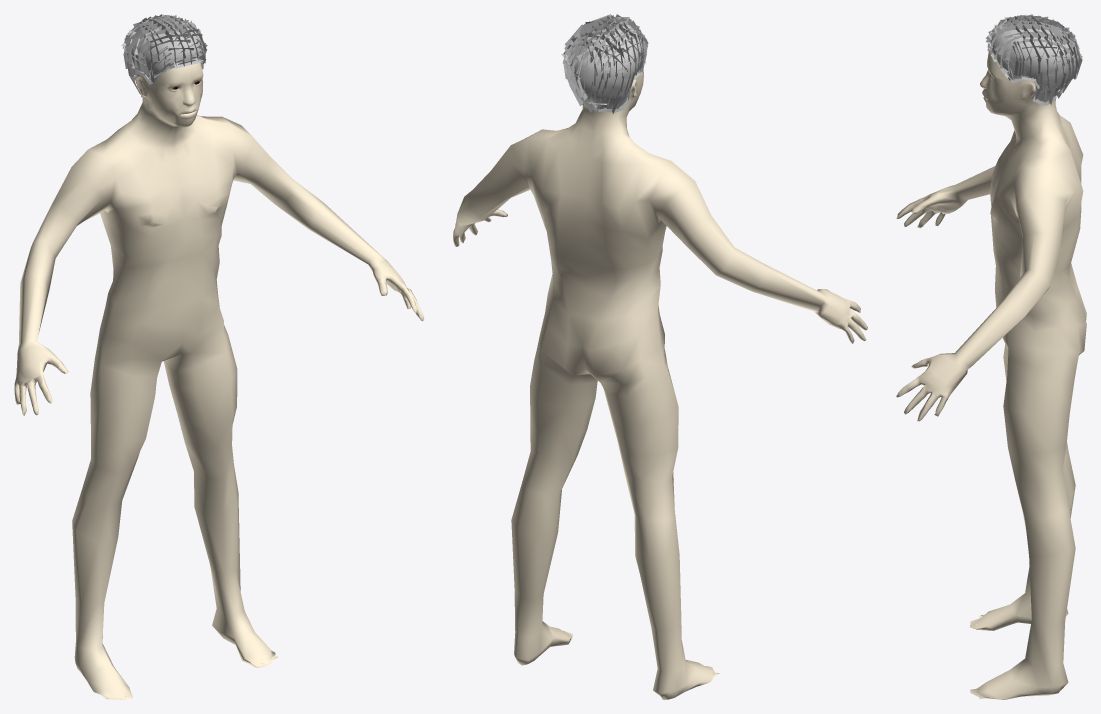
Rendered from npc01.fbx.
The picture shows the model from 3 angles, left to right: view 1: azimuth 30°, elevation 25°; view 2: azimuth 150°, elevation 25°; view 3: azimuth 270°, elevation 25°; orthographic projection.
Parts seen in each view (by area): view 1: female1605Mesh, afro01Mesh; view 2: female1605Mesh, afro01Mesh; view 3: female1605Mesh, afro01Mesh.
Part boxes in pixels (bbox=[...]): female1605Mesh: bbox=[14, 62, 424, 699]; afro01Mesh: bbox=[121, 14, 207, 97]; female1605Mesh: bbox=[453, 69, 867, 699]; afro01Mesh: bbox=[561, 14, 648, 113]; female1605Mesh: bbox=[896, 54, 1086, 699]; afro01Mesh: bbox=[986, 14, 1082, 105].
Bounding box in the file's own units: 11.25 × 17.32 × 4.67.
